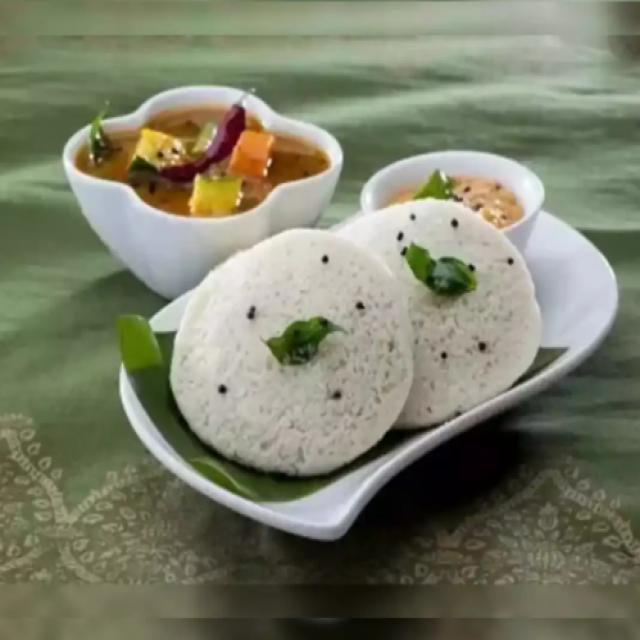IDLI: (171, 202, 541, 480)
SAMBAR: (70, 100, 331, 221)
WHITE CHUTNEY: (389, 170, 533, 223)
